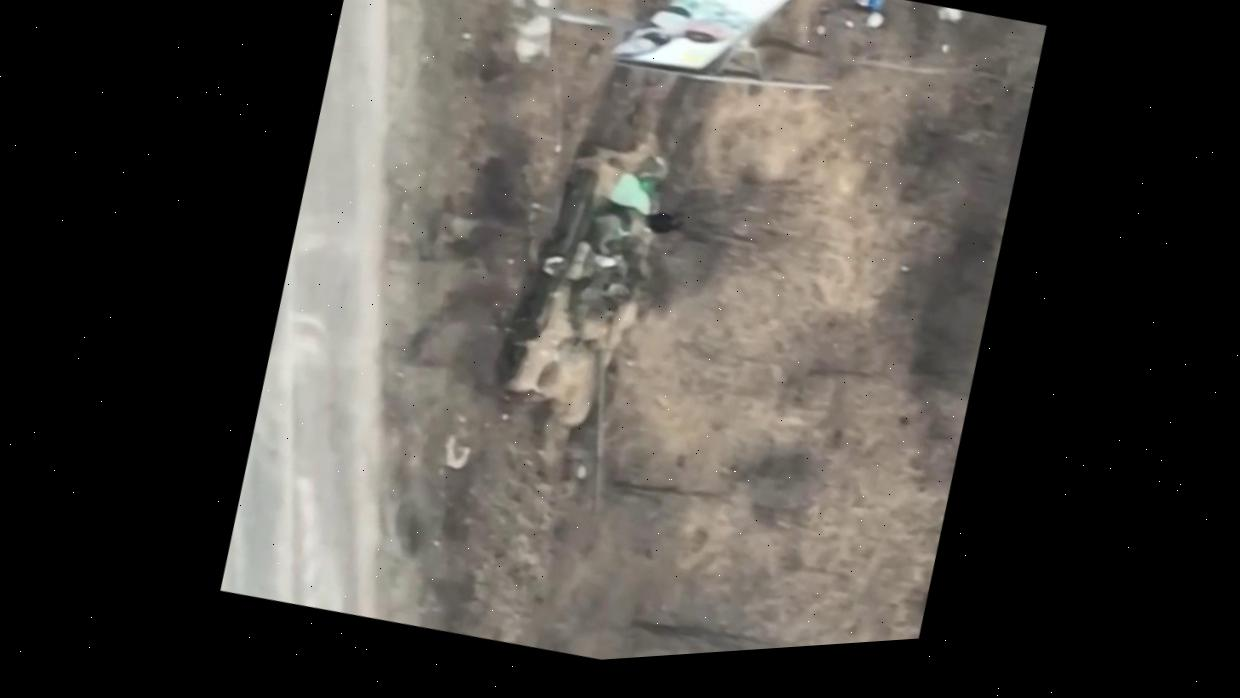tank: (462, 128, 705, 526)
